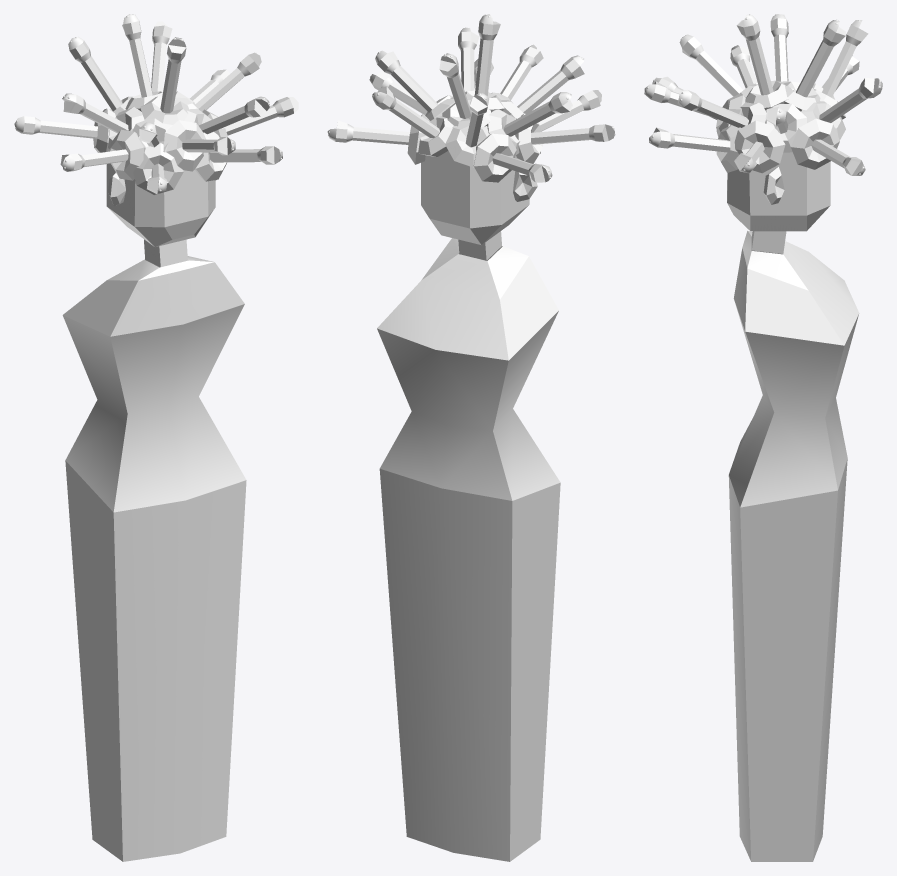
File: Medusa.fbx
The picture shows the model from 3 angles, left to right: view 1: azimuth 30°, elevation 25°; view 2: azimuth 150°, elevation 25°; view 3: azimuth 270°, elevation 25°; orthographic projection.
Visible parts, largest first — view 1: Medusa; view 2: Medusa; view 3: Medusa.
Part boxes in pixels (x1,y1,x2,y2): Medusa: (14,14,298,861); Medusa: (327,14,615,861); Medusa: (644,14,882,861).
Bounding box in the file's own units: 51.87 × 168 × 44.13.
1 material, 1 textured.
